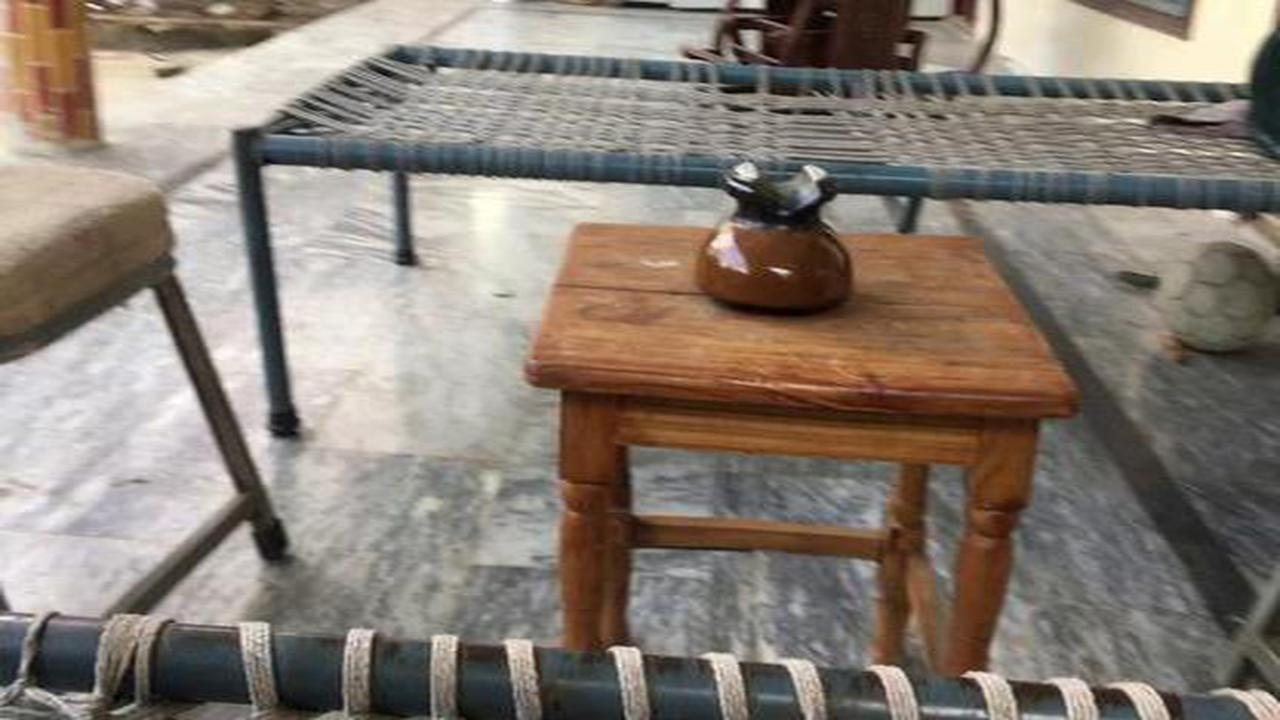insulator_pin: (677, 151, 881, 317)
